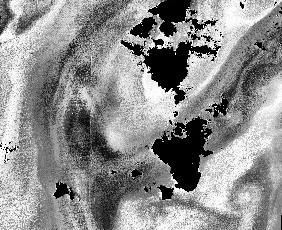CE: (226, 172, 273, 216)
